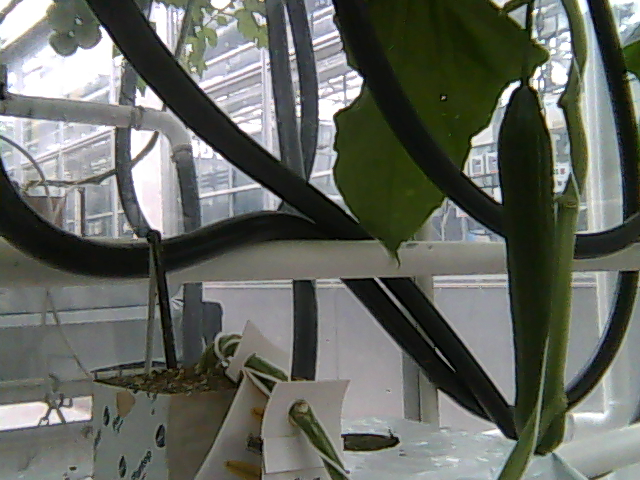concombre: (494, 80, 570, 457)
